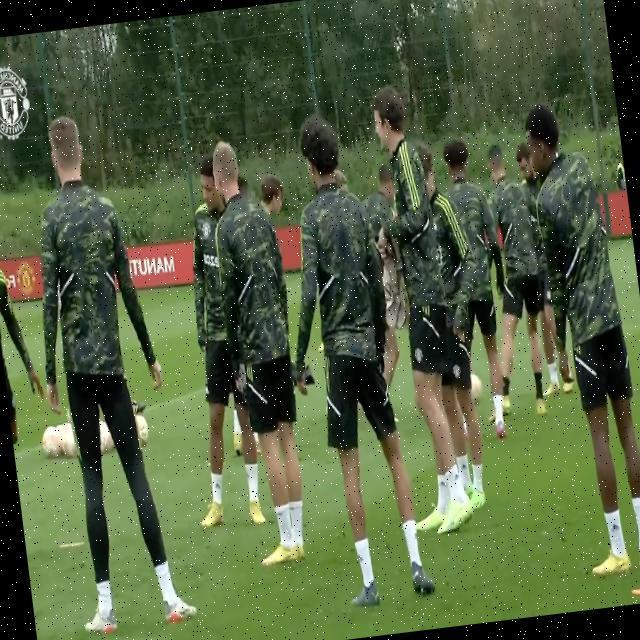Adidas: (609, 517, 622, 536)
